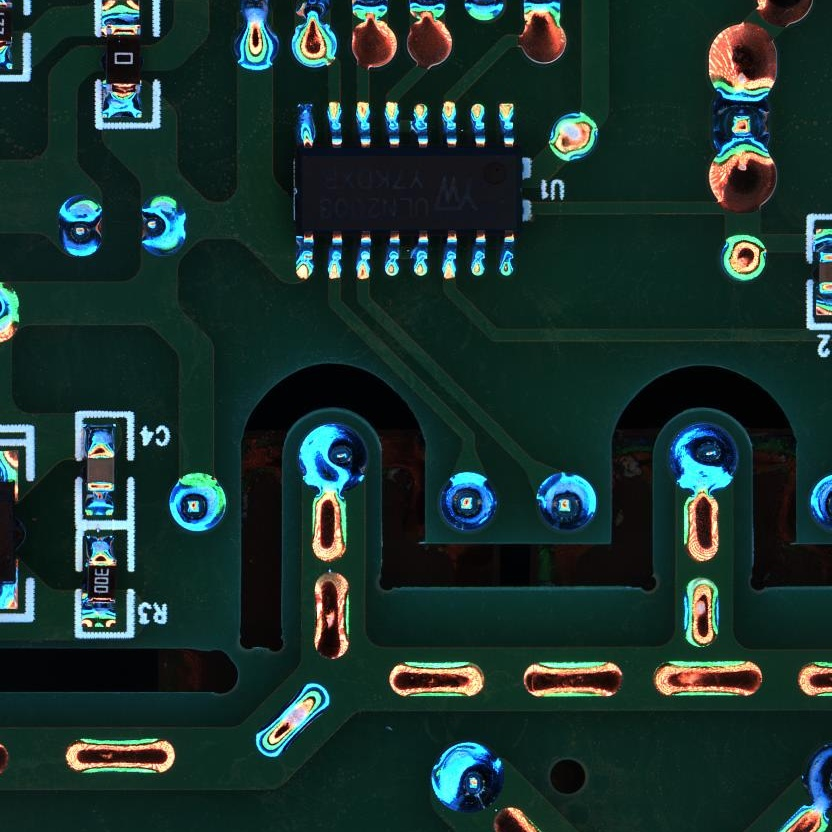spot: (293, 420, 374, 498), (425, 740, 507, 815), (664, 422, 740, 496), (709, 90, 776, 160), (532, 468, 600, 534), (435, 468, 501, 536), (166, 470, 230, 534), (139, 192, 188, 260), (57, 195, 105, 261), (546, 108, 600, 164), (719, 233, 769, 282)
